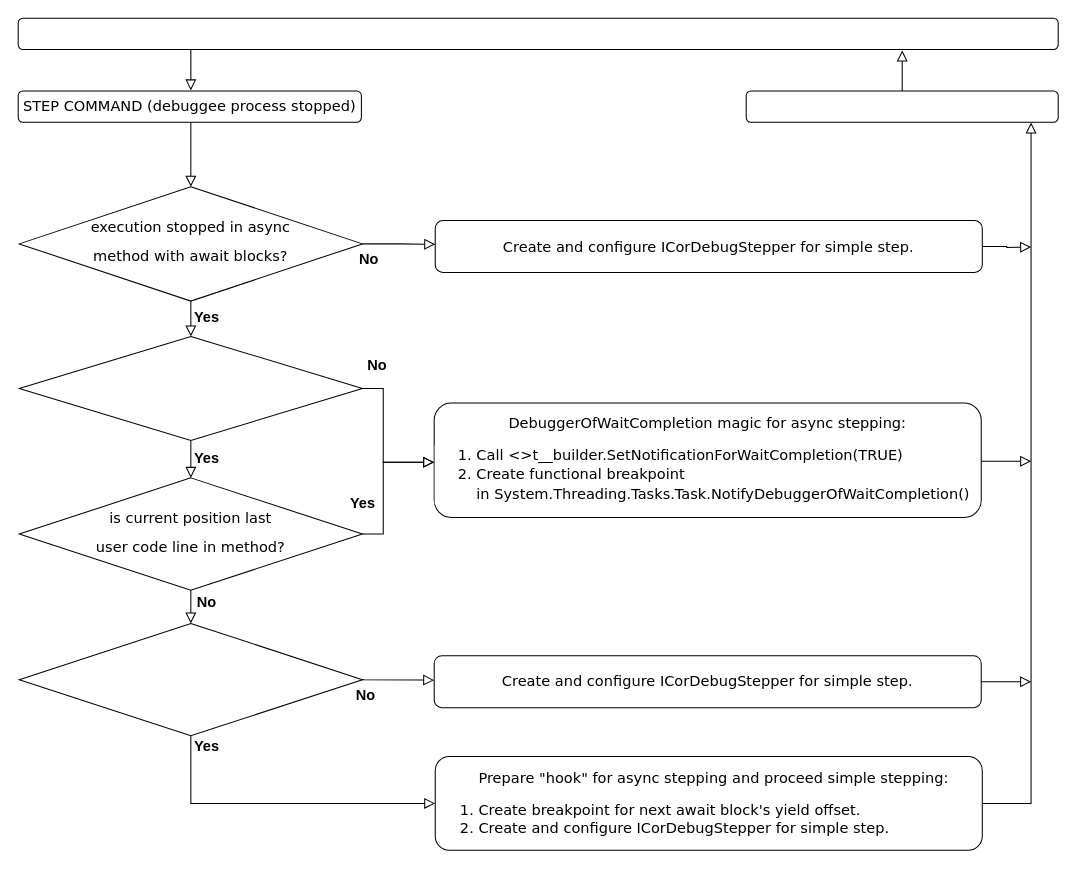
The diagram is 1076 pixels wide and 869 high, and some of its shapes have lost their labels. Here are the shapes that lost their labels. From the top down, the centre of each, then its label:
At (537,33): "Protocol's command loop routine.".
At (901,106): "Continue debuggee process execution.".
At (190,387): "is command step-in or step-over?".
At (190,679): "do we have await block in remain code ?".
